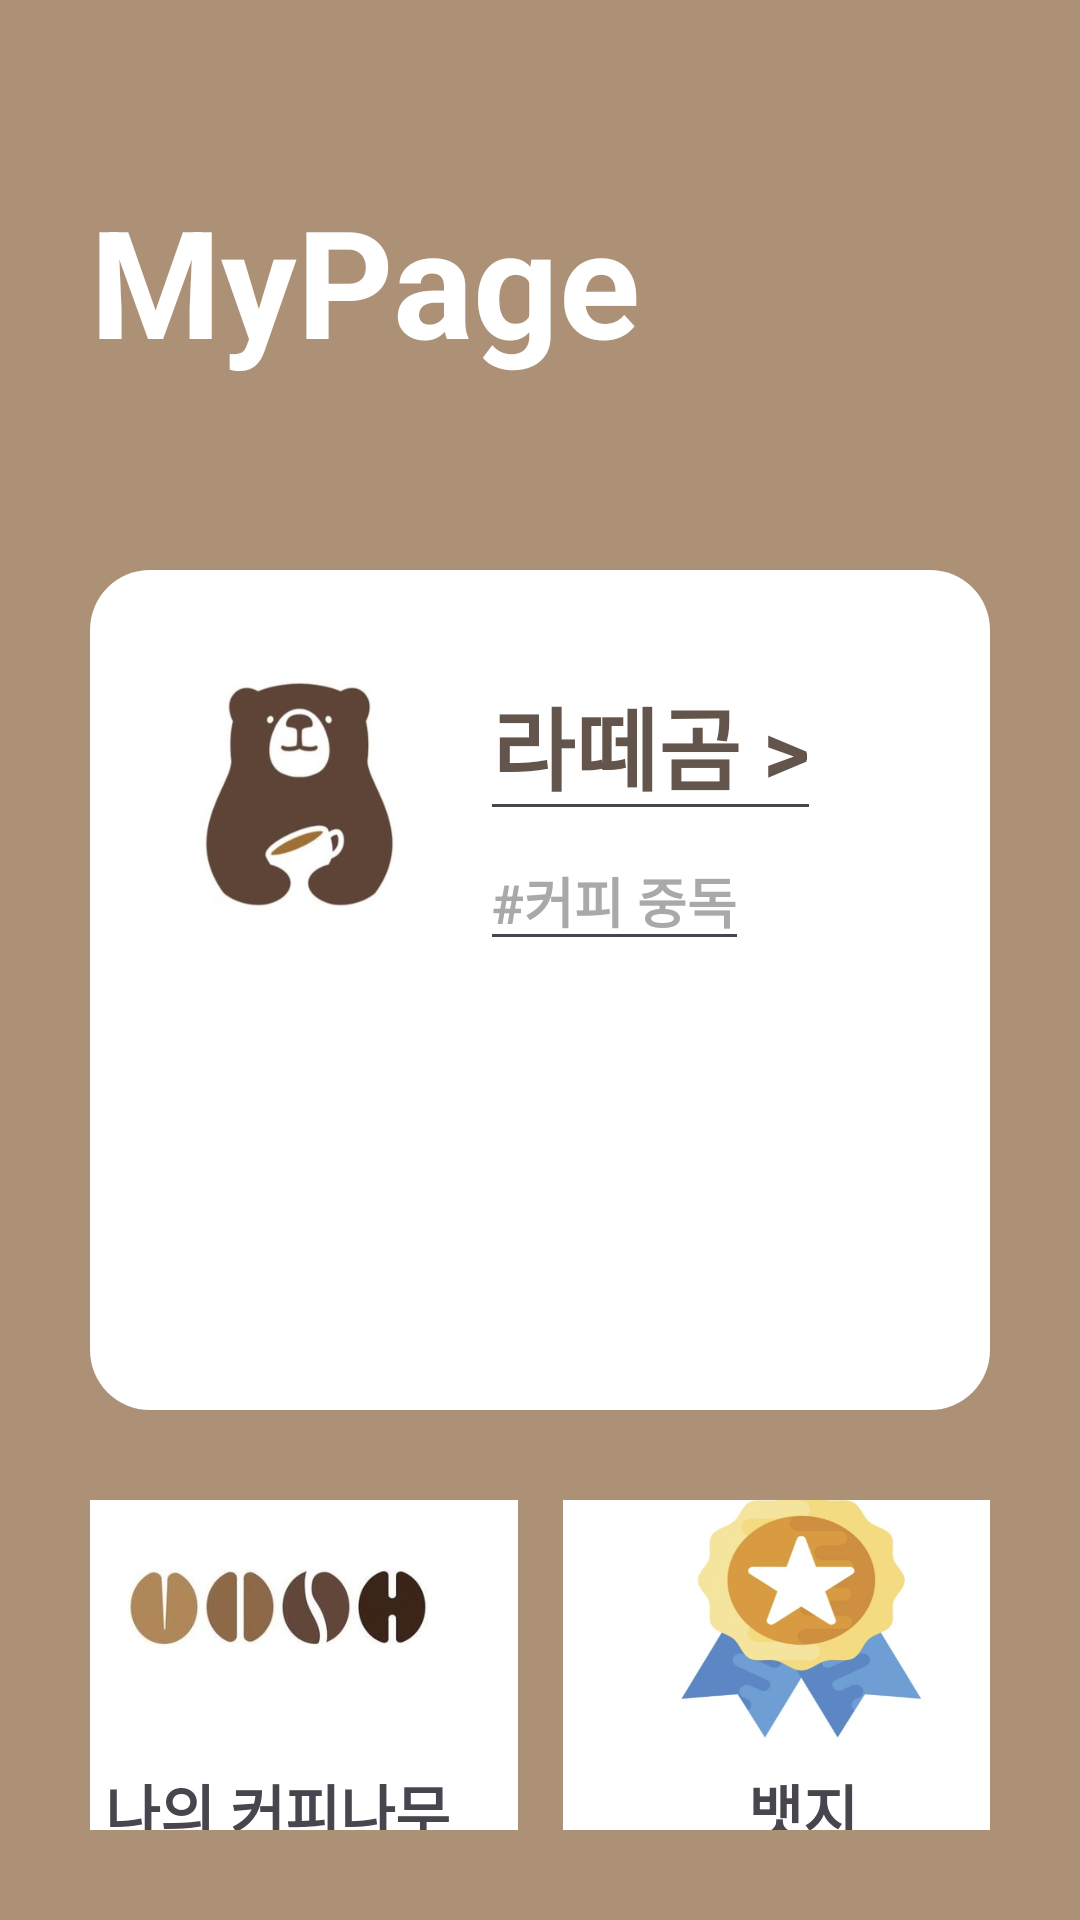

Screen size 1080 x 1920. Icon name, then its center in pixels as [x,y]:
coffeebear: [299,794]
coffeebin: [278,1607]
